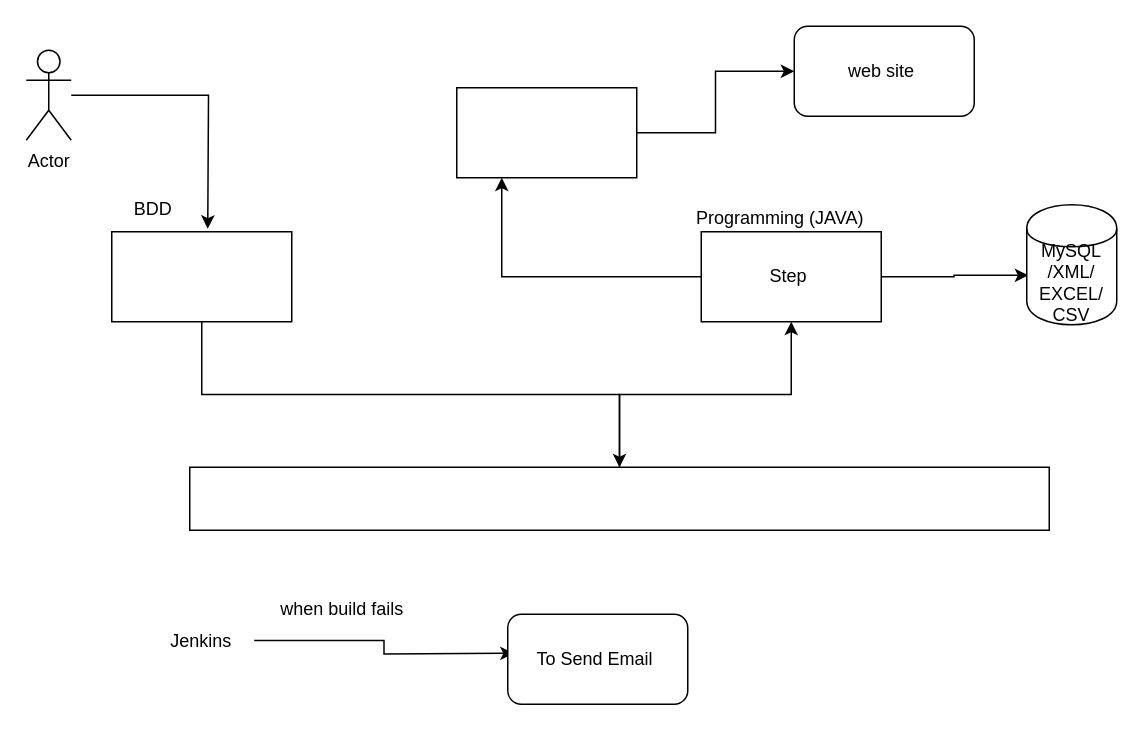
This 1143x731 diagram has some shape labels left out. Each missing label, with the centre of its shape:
"cucumber" belongs at point (201, 276).
"POM" belongs at point (546, 132).
"TestNG" belongs at point (618, 498).
